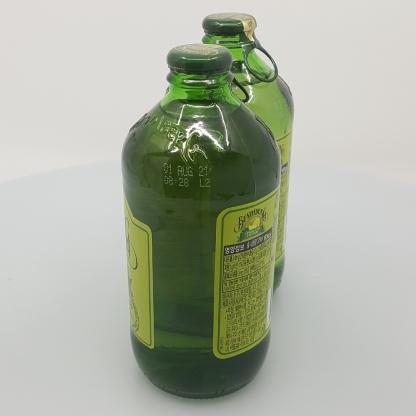------------375ML: (122, 44, 281, 399)
